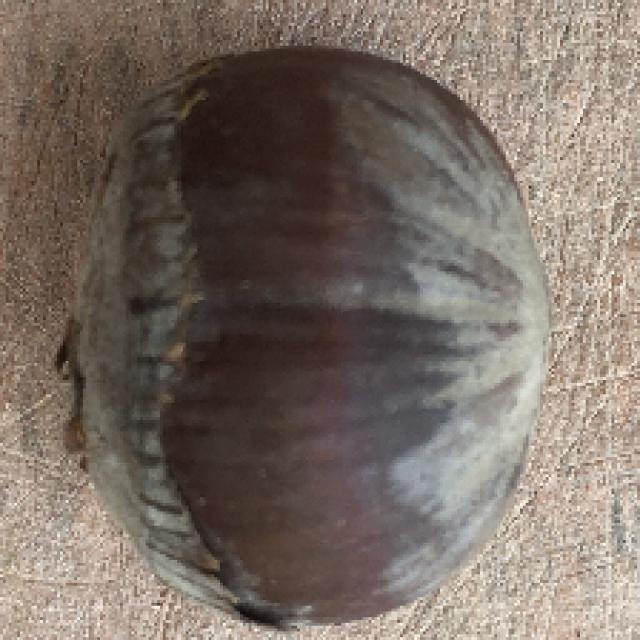DamagedHazelnut: (70, 56, 560, 624)
